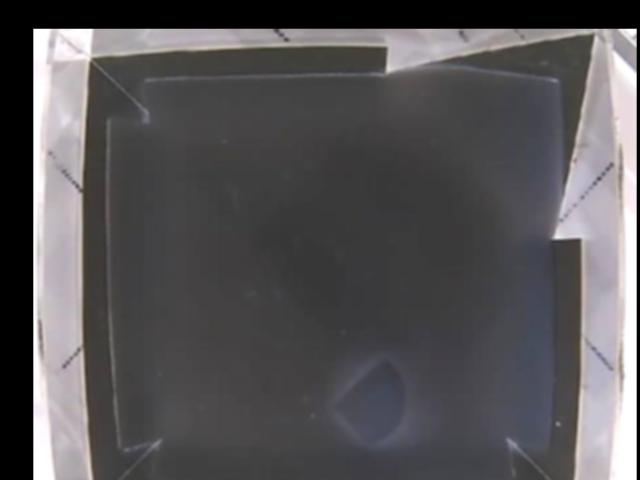Mooli: (332, 358, 407, 447)
